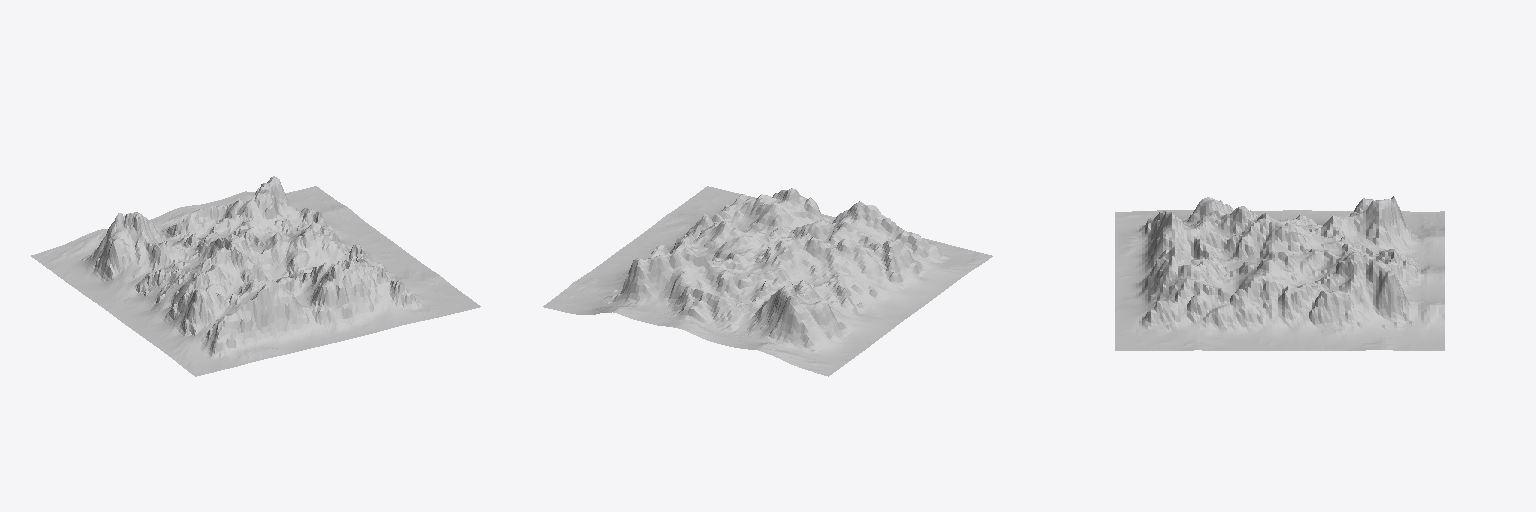
The model's file is mountain.obj.
The picture shows the model from 3 angles: view 1: azimuth 30°, elevation 25°; view 2: azimuth 150°, elevation 25°; view 3: azimuth 270°, elevation 25°; orthographic projection.
Visible parts, largest first — view 1: TerrainMesh.001; view 2: TerrainMesh.001; view 3: TerrainMesh.001.
Boxes of the visible parts, <box> form: TerrainMesh.001: <box>31,176,480,376</box>; TerrainMesh.001: <box>543,186,992,376</box>; TerrainMesh.001: <box>1115,196,1444,350</box>.
Size of the model in its own units: 501 by 85.12 by 501.